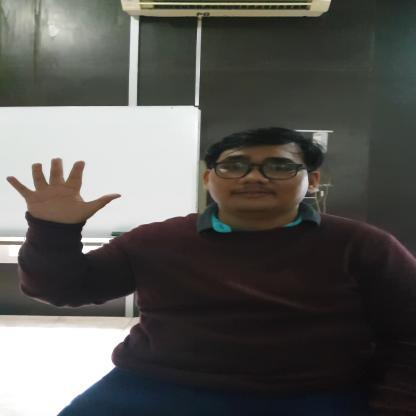Halo: (3, 155, 125, 230)
